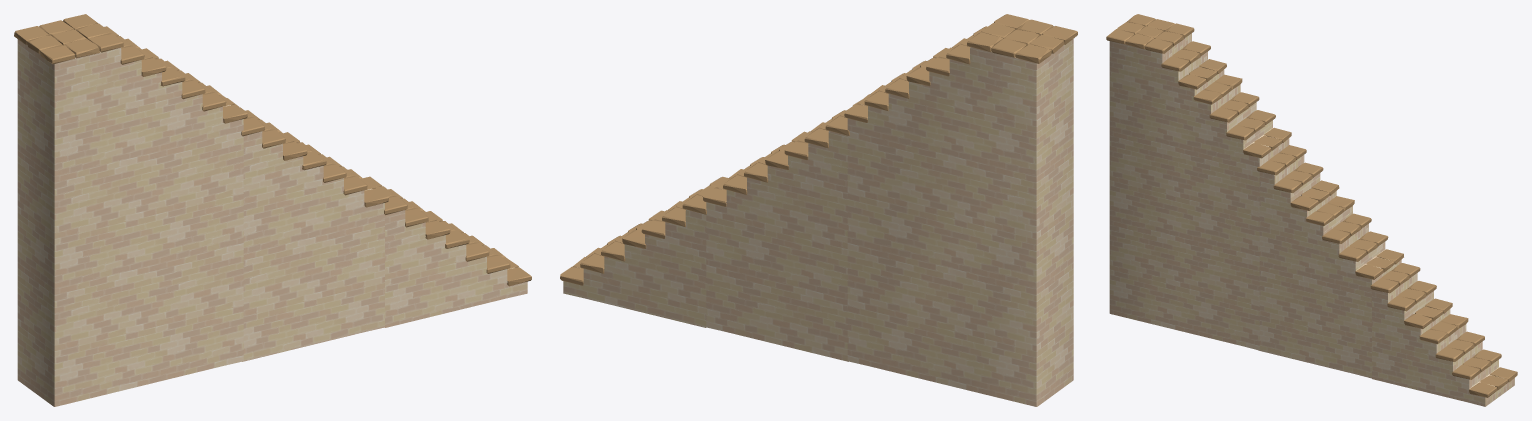
The model's file is SM_stairs_castle.fbx.
The picture shows the model from 3 angles, left to right: view 1: azimuth 30°, elevation 25°; view 2: azimuth 150°, elevation 25°; view 3: azimuth 330°, elevation 25°; orthographic projection. The views are drawn at different scales.
Parts seen in each view (by area): view 1: Object32825; view 2: Object32825; view 3: Object32825.
Part boxes in pixels (left/top/right/bottom): Object32825: left=14, top=14, right=531, bottom=406; Object32825: left=560, top=14, right=1077, bottom=406; Object32825: left=1106, top=14, right=1517, bottom=406.
Size of the model in its own units: 423 by 296 by 58.89.
